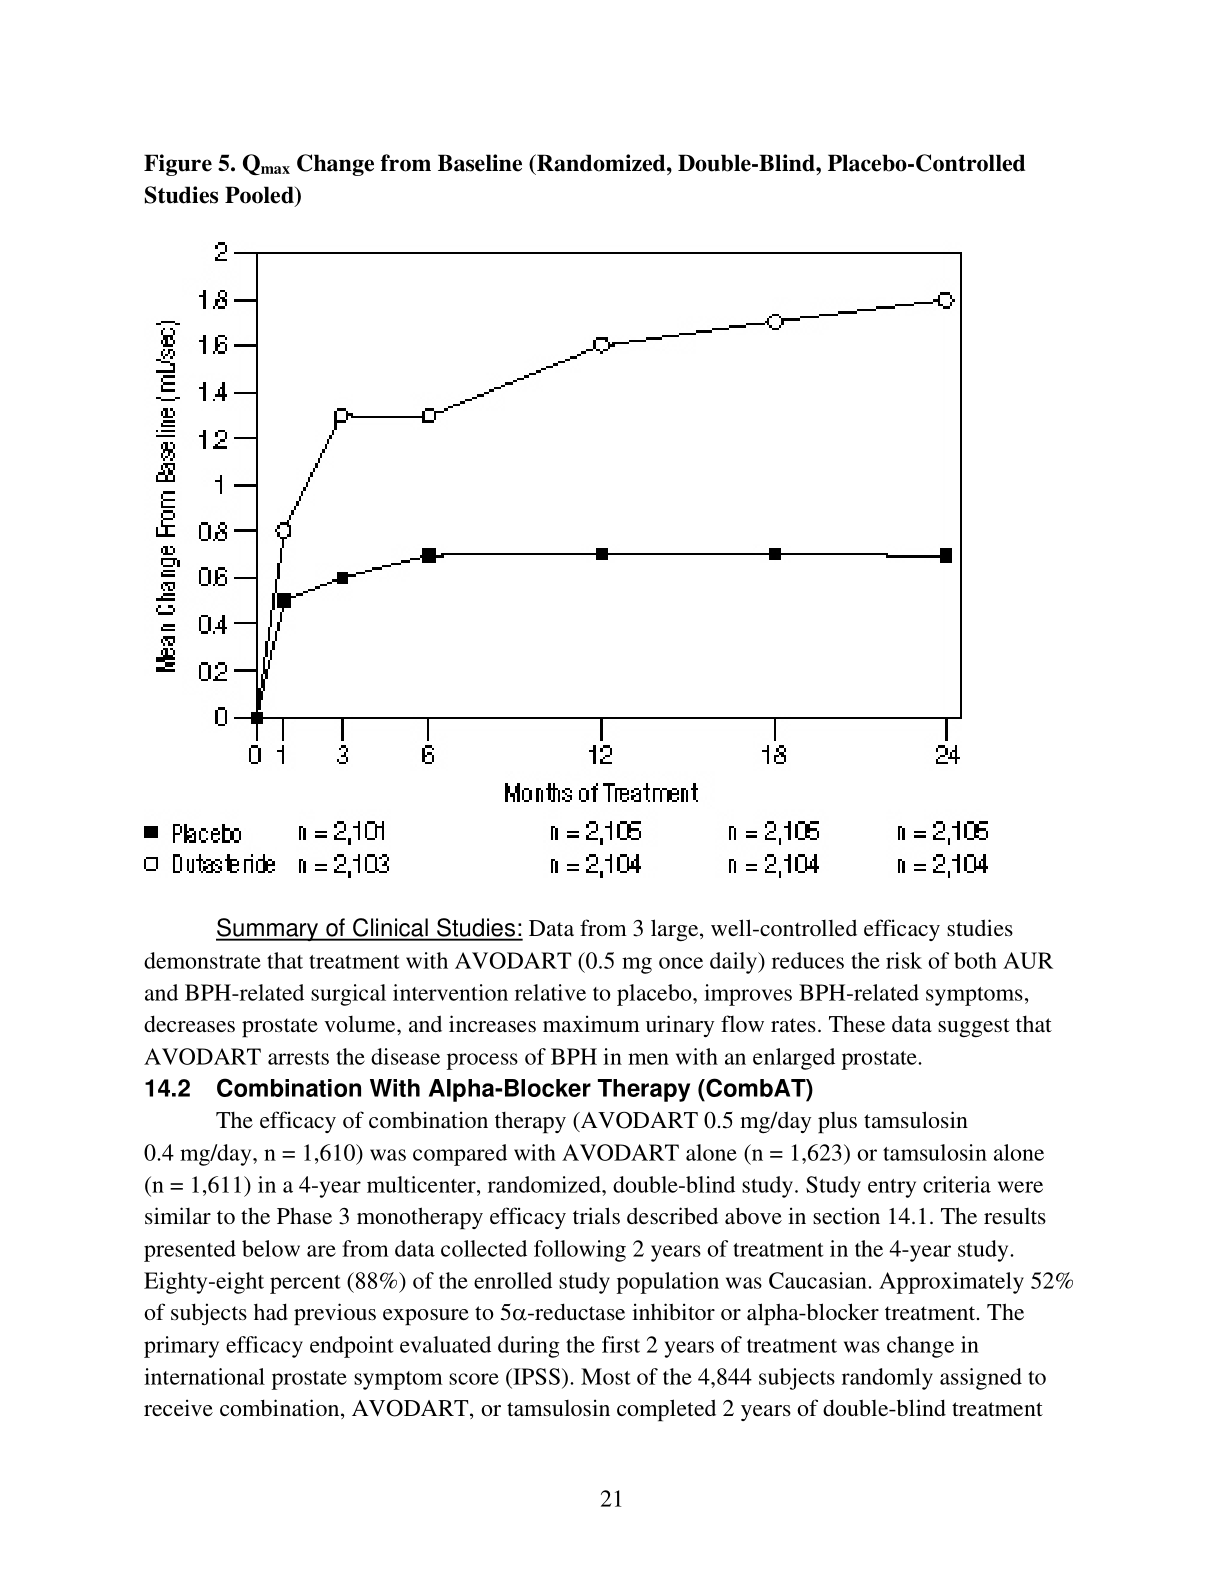nolines: (138, 816, 995, 879)
